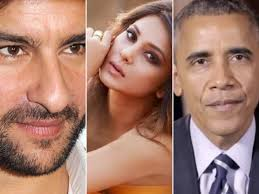n.blunt: (32, 57, 73, 113)
